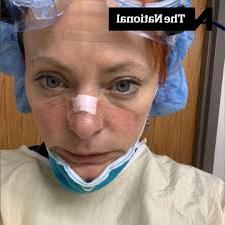mask_weared_incorrect: (29, 58, 149, 187)
